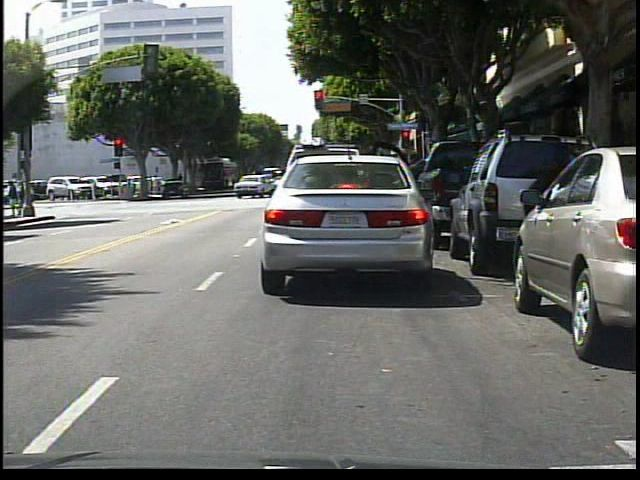person: (10, 182, 32, 219), (407, 149, 427, 173)
